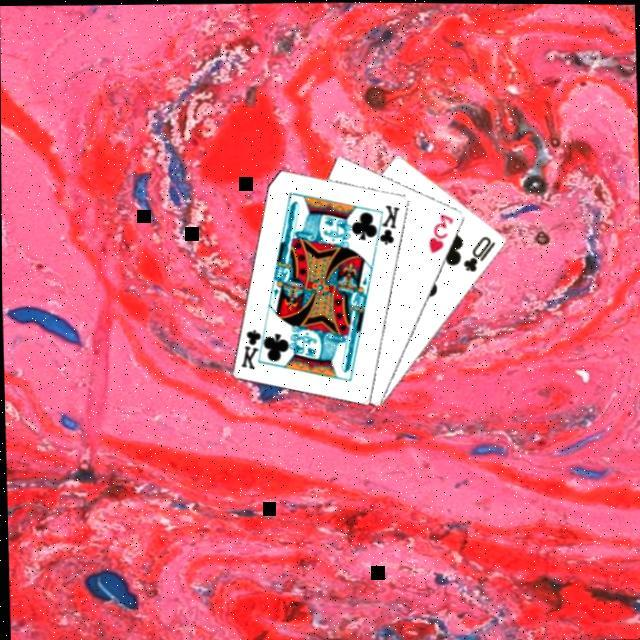10C: (458, 234, 497, 276)
3H: (424, 210, 456, 257)
KC: (235, 324, 268, 373), (369, 202, 402, 250)
